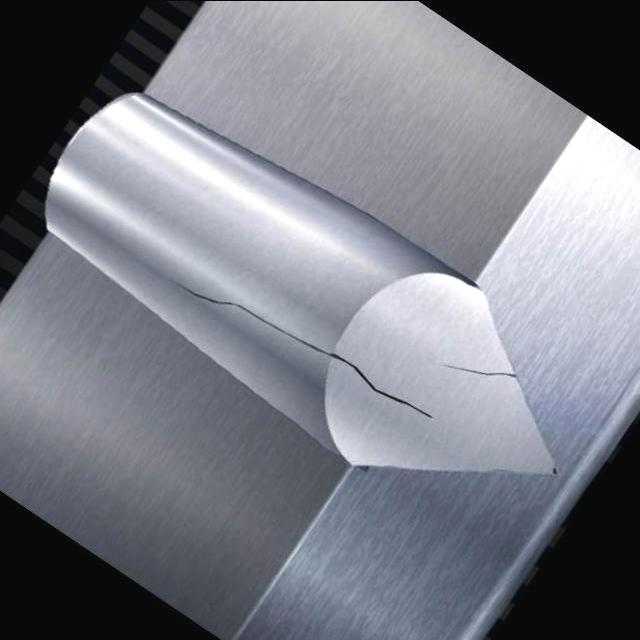defect: (161, 275, 441, 423), (430, 359, 522, 380)
